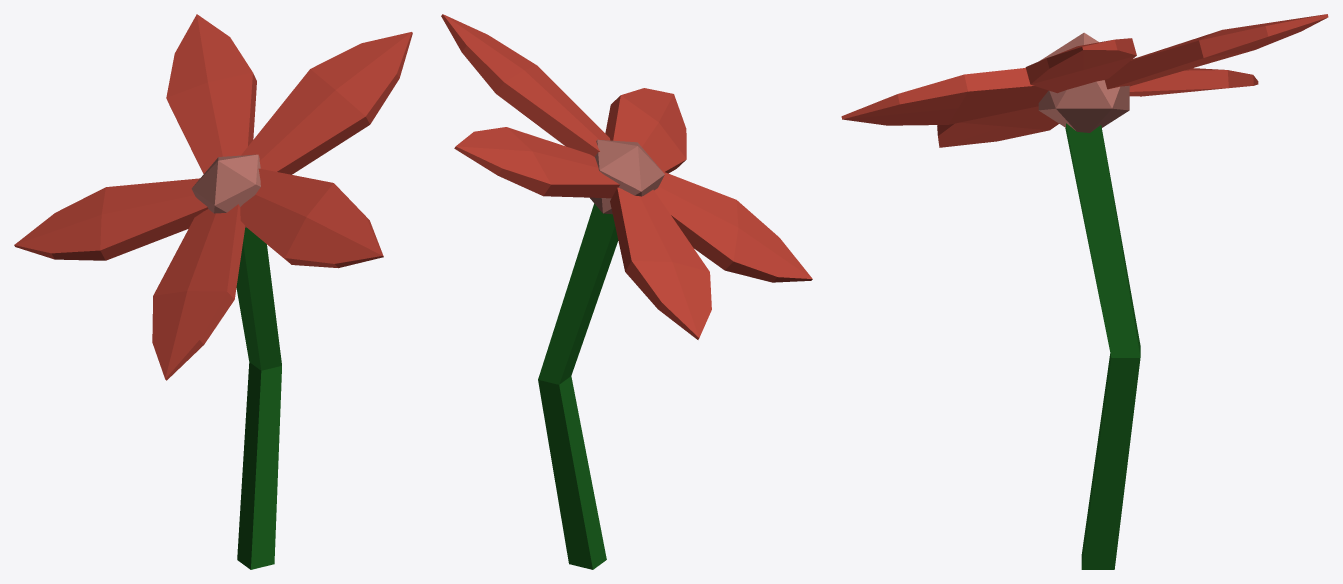
File: Flower_1_Red.fbx
3 renders of one model, left to right at view 1: azimuth 30°, elevation 25°; view 2: azimuth 150°, elevation 25°; view 3: azimuth 270°, elevation 25°, orthographic. The views are drawn at different scales.
Visible parts, largest first — view 1: Flower_1_Red_Part_3, Flower_1_Red_Part_1, Flower_1_Red_Part_2; view 2: Flower_1_Red_Part_3, Flower_1_Red_Part_1, Flower_1_Red_Part_2; view 3: Flower_1_Red_Part_3, Flower_1_Red_Part_1, Flower_1_Red_Part_2.
Part boxes in pixels (bbox=[...]): Flower_1_Red_Part_3: bbox=[14, 14, 412, 380]; Flower_1_Red_Part_1: bbox=[236, 227, 281, 569]; Flower_1_Red_Part_2: bbox=[191, 154, 260, 227]; Flower_1_Red_Part_3: bbox=[441, 14, 812, 339]; Flower_1_Red_Part_1: bbox=[538, 203, 618, 569]; Flower_1_Red_Part_2: bbox=[590, 139, 664, 214]; Flower_1_Red_Part_3: bbox=[841, 14, 1328, 147]; Flower_1_Red_Part_1: bbox=[1065, 123, 1140, 569]; Flower_1_Red_Part_2: bbox=[1038, 32, 1129, 132].
Size of the model in its own units: 25.92 by 37.81 by 27.6.
